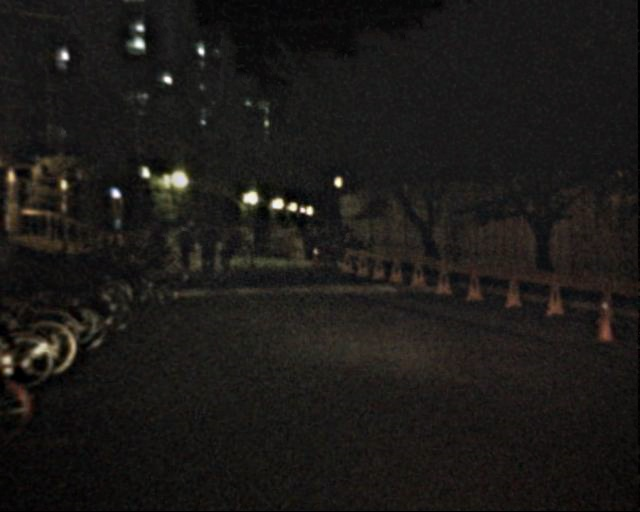person: (196, 217, 219, 274), (338, 228, 361, 284), (216, 225, 238, 278), (150, 220, 172, 273), (176, 225, 194, 268), (252, 226, 270, 258), (185, 218, 200, 254)
